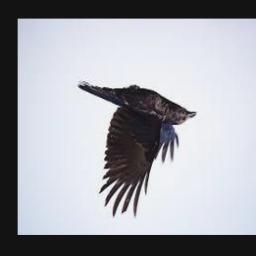Crow: (78, 83, 197, 218)
